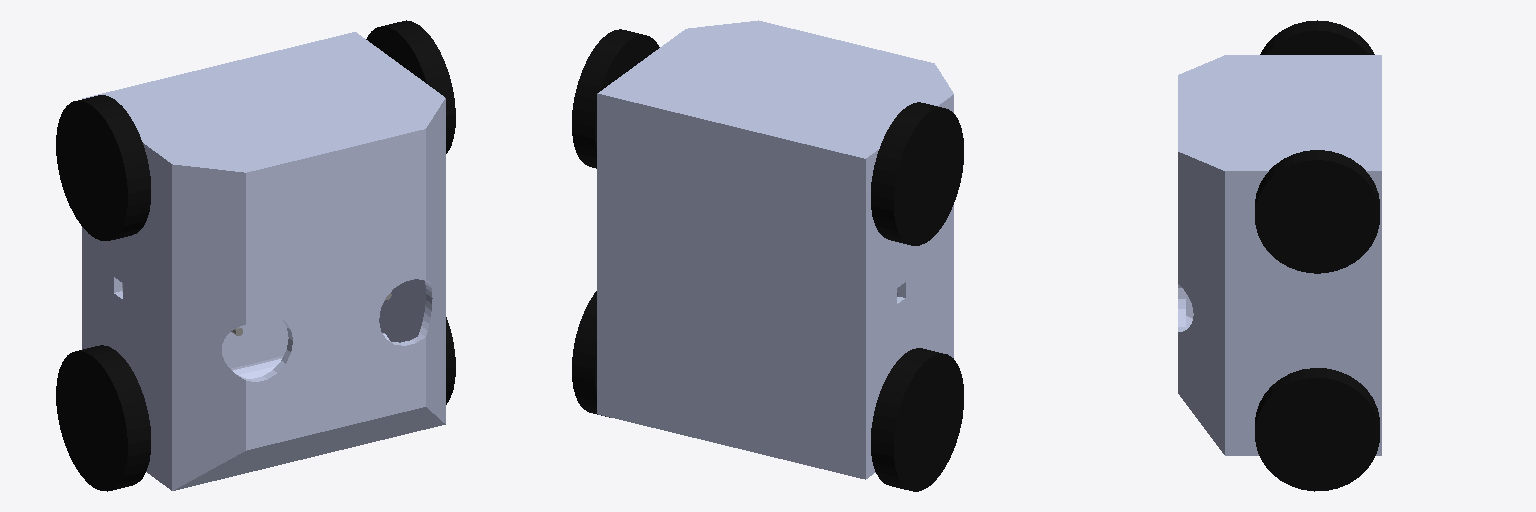
The robot description file, URDF, robot "URDF":
<?xml version="1.0" encoding="utf-8"?>
<!-- This URDF was automatically created by SolidWorks to URDF Exporter! Originally created by Stephen Brawner (brawner@gmail.com) 
     Commit Version: 1.6.0-4-g7f85cfe  Build Version: 1.6.7995.38578
     For more information, please see http://wiki.ros.org/sw_urdf_exporter -->
<robot
  name="URDF">
  <link
    name="base_link">
    <inertial>
      <origin
        xyz="8.81981428078991E-05 -0.000708189608539354 0.108414515965737"
        rpy="0 0 0" />
      <mass
        value="7.86541982071816" />
      <inertia
        ixx="0.147385267820076"
        ixy="4.87232883621826E-07"
        ixz="-5.25311149906748E-06"
        iyy="0.111742631460037"
        iyz="-0.00057298476133231"
        izz="0.218839337559416" />
    </inertial>
    <visual>
      <origin
        xyz="0 0 0"
        rpy="0 0 0" />
      <geometry>
        <mesh
          filename="package://URDF/meshes/base_link.STL" />
      </geometry>
      <material
        name="">
        <color
          rgba="0.792156862745098 0.819607843137255 0.933333333333333 1" />
      </material>
    </visual>
    <collision>
      <origin
        xyz="0 0 0"
        rpy="0 0 0" />
      <geometry>
        <mesh
          filename="package://URDF/meshes/base_link.STL" />
      </geometry>
    </collision>
  </link>
  <link
    name="leftfrontwheel_Link">
    <inertial>
      <origin
        xyz="0.186 -0.26 0.07"
        rpy="0 0 0" />
      <mass
        value="0.65973" />
      <inertia
        ixx="0.001933"
        ixy="-3.9269E-19"
        ixz="-4.5173E-20"
        iyy="0.0017344"
        iyz="-3.8519E-34"
        izz="0.0017344" />
    </inertial>
    <visual>
      <origin
        xyz="0 0 0"
        rpy="0 0 0" />
      <geometry>
        <mesh
          filename="package://URDF/meshes/leftfrontwheel_Link.STL" />
      </geometry>
      <material
        name="">
        <color
          rgba="0.098039 0.098039 0.098039 1" />
      </material>
    </visual>
    <collision>
      <origin
        xyz="0 0 0"
        rpy="0 0 0" />
      <geometry>
        <mesh
          filename="package://URDF/meshes/leftfrontwheel_Link.STL" />
      </geometry>
    </collision>
  </link>
  <joint
    name="leftfrontjoint"
    type="continuous">
    <origin
      xyz="0 -0.34223 -0.083776"
      rpy="-3.1416 0 0" />
    <parent
      link="base_link" />
    <child
      link="leftfrontwheel_Link" />
    <axis
      xyz="0 0 0" />
  </joint>
  <link
    name="rightfrontwheel_Link">
    <inertial>
      <origin
        xyz="-0.186 -0.26 0.07"
        rpy="0 0 0" />
      <mass
        value="0.659734457253857" />
      <inertia
        ixx="0.0019330219597538"
        ixy="-9.92924677451742E-20"
        ixz="-2.06720667964179E-21"
        iyy="0.00173444188812039"
        iyz="-1.6940658945086E-21"
        izz="0.00173444188812039" />
    </inertial>
    <visual>
      <origin
        xyz="0 0 0"
        rpy="0 0 0" />
      <geometry>
        <mesh
          filename="package://URDF/meshes/rightfrontwheel_Link.STL" />
      </geometry>
      <material
        name="">
        <color
          rgba="0.0980392156862745 0.0980392156862745 0.0980392156862745 1" />
      </material>
    </visual>
    <collision>
      <origin
        xyz="0 0 0"
        rpy="0 0 0" />
      <geometry>
        <mesh
          filename="package://URDF/meshes/rightfrontwheel_Link.STL" />
      </geometry>
    </collision>
  </link>
  <joint
    name="rightfrontjoint"
    type="continuous">
    <origin
      xyz="0 -0.013227 0.10649"
      rpy="1.5746 0 0" />
    <parent
      link="base_link" />
    <child
      link="rightfrontwheel_Link" />
    <axis
      xyz="0 0 0" />
  </joint>
  <link
    name="leftbackwheel_Link">
    <inertial>
      <origin
        xyz="0.186 0.04 0.07"
        rpy="0 0 0" />
      <mass
        value="0.659734457253857" />
      <inertia
        ixx="0.0019330219597538"
        ixy="-8.9053195220116E-19"
        ixz="-4.51725970653216E-20"
        iyy="0.00173444188812039"
        iyz="4.22185817084977E-35"
        izz="0.00173444188812039" />
    </inertial>
    <visual>
      <origin
        xyz="0 0 0"
        rpy="0 0 0" />
      <geometry>
        <mesh
          filename="package://URDF/meshes/leftbackwheel_Link.STL" />
      </geometry>
      <material
        name="">
        <color
          rgba="0.0980392156862745 0.0980392156862745 0.0980392156862745 1" />
      </material>
    </visual>
    <collision>
      <origin
        xyz="0 0 0"
        rpy="0 0 0" />
      <geometry>
        <mesh
          filename="package://URDF/meshes/leftbackwheel_Link.STL" />
      </geometry>
    </collision>
  </link>
  <joint
    name="leftbackjoint"
    type="continuous">
    <origin
      xyz="0 -0.012228 0.11249"
      rpy="1.5708 0 0" />
    <parent
      link="base_link" />
    <child
      link="leftbackwheel_Link" />
    <axis
      xyz="0 0 0" />
  </joint>
  <link
    name="rightbackwheel_Link">
    <inertial>
      <origin
        xyz="-0.186 0.04 0.07"
        rpy="0 0 0" />
      <mass
        value="0.659734457253857" />
      <inertia
        ixx="0.0019330219597538"
        ixy="8.89049644543465E-19"
        ixz="1.88079096131566E-34"
        iyy="0.00173444188812039"
        iyz="1.81464585269469E-36"
        izz="0.00173444188812039" />
    </inertial>
    <visual>
      <origin
        xyz="0 0 0"
        rpy="0 0 0" />
      <geometry>
        <mesh
          filename="package://URDF/meshes/rightbackwheel_Link.STL" />
      </geometry>
      <material
        name="">
        <color
          rgba="0.0980392156862745 0.0980392156862745 0.0980392156862745 1" />
      </material>
    </visual>
    <collision>
      <origin
        xyz="0 0 0"
        rpy="0 0 0" />
      <geometry>
        <mesh
          filename="package://URDF/meshes/rightbackwheel_Link.STL" />
      </geometry>
    </collision>
  </link>
  <joint
    name="rightbackjoint"
    type="continuous">
    <origin
      xyz="0 -0.012228 0.11249"
      rpy="1.5708 0 0" />
    <parent
      link="base_link" />
    <child
      link="rightbackwheel_Link" />
    <axis
      xyz="0 0 0" />
  </joint>
  <link
    name="leftmotor_Link">
    <inertial>
      <origin
        xyz="0.0950000014156103 -0.0200000002980232 0.16"
        rpy="0 0 0" />
      <mass
        value="0.00785397718670416" />
      <inertia
        ixx="6.59406831854161E-06"
        ixy="5.9740946667467E-56"
        ixz="6.91076009765075E-40"
        iyy="6.59406831854161E-06"
        iyz="-3.79438902730694E-39"
        izz="9.81746592429545E-08" />
    </inertial>
    <visual>
      <origin
        xyz="0 0 0"
        rpy="0 0 0" />
      <geometry>
        <mesh
          filename="package://URDF/meshes/leftmotor_Link.STL" />
      </geometry>
      <material
        name="">
        <color
          rgba="0.627450980392157 0.627450980392157 0.627450980392157 1" />
      </material>
    </visual>
    <collision>
      <origin
        xyz="0 0 0"
        rpy="0 0 0" />
      <geometry>
        <mesh
          filename="package://URDF/meshes/leftmotor_Link.STL" />
      </geometry>
    </collision>
  </link>
  <joint
    name="leftmotorjoint"
    type="continuous">
    <origin
      xyz="0 -0.32 -0.04"
      rpy="-1.5708 0 0" />
    <parent
      link="base_link" />
    <child
      link="leftmotor_Link" />
    <axis
      xyz="0 0 0" />
  </joint>
  <link
    name="rightmotor_Link">
    <inertial>
      <origin
        xyz="-0.095093 -0.019554 0.16"
        rpy="0 0 0" />
      <mass
        value="0.007854" />
      <inertia
        ixx="6.5941E-06"
        ixy="0"
        ixz="8.0933E-28"
        iyy="6.5941E-06"
        iyz="1.7233E-25"
        izz="9.8175E-08" />
    </inertial>
    <visual>
      <origin
        xyz="0 0 0"
        rpy="0 0 0" />
      <geometry>
        <mesh
          filename="package://URDF/meshes/rightmotor_Link.STL" />
      </geometry>
      <material
        name="">
        <color
          rgba="0.62745 0.62745 0.62745 1" />
      </material>
    </visual>
    <collision>
      <origin
        xyz="0 0 0"
        rpy="0 0 0" />
      <geometry>
        <mesh
          filename="package://URDF/meshes/rightmotor_Link.STL" />
      </geometry>
    </collision>
  </link>
  <joint
    name="rightmotorjoint"
    type="continuous">
    <origin
      xyz="0 -0.32 -0.04"
      rpy="-1.5708 0.0046964 0" />
    <parent
      link="base_link" />
    <child
      link="rightmotor_Link" />
    <axis
      xyz="0 0 0" />
  </joint>
</robot>

--- What the picture shows (computed from the rendered views, not written in the file) ---
3 views of the same robot in one strip: view 1: azimuth 30°, elevation 25°; view 2: azimuth 150°, elevation 25°; view 3: azimuth 270°, elevation 25° (orthographic).
Model URDF with 7 links and 6 joints (6 continuous), rooted at base_link, posed all joints at 0.
Links seen in each view (by area): view 1: base_link, rightbackwheel_Link, rightfrontwheel_Link, leftbackwheel_Link, leftfrontwheel_Link; view 2: base_link, rightfrontwheel_Link, rightbackwheel_Link, leftbackwheel_Link, leftfrontwheel_Link; view 3: base_link, leftbackwheel_Link, leftfrontwheel_Link, rightbackwheel_Link.
Link boxes in pixels (x1=…): base_link: x1=82, y1=32, x2=445, y2=490; rightbackwheel_Link: x1=56, y1=95, x2=150, y2=240; rightfrontwheel_Link: x1=56, y1=345, x2=150, y2=491; leftbackwheel_Link: x1=366, y1=20, x2=455, y2=153; leftfrontwheel_Link: x1=446, y1=317, x2=455, y2=404; base_link: x1=597, y1=20, x2=953, y2=479; rightfrontwheel_Link: x1=871, y1=348, x2=963, y2=491; rightbackwheel_Link: x1=871, y1=102, x2=963, y2=245; leftbackwheel_Link: x1=572, y1=29, x2=659, y2=168; leftfrontwheel_Link: x1=572, y1=291, x2=609, y2=417; base_link: x1=1178, y1=55, x2=1381, y2=455; leftbackwheel_Link: x1=1255, y1=150, x2=1379, y2=273; leftfrontwheel_Link: x1=1255, y1=368, x2=1379, y2=491; rightbackwheel_Link: x1=1260, y1=20, x2=1374, y2=54.
Bounding box of the posed robot: 0.42 × 0.26 × 0.4663 m (x, y, z).
7 mesh visuals loaded from 7 distinct referenced files (7 binary STL).
